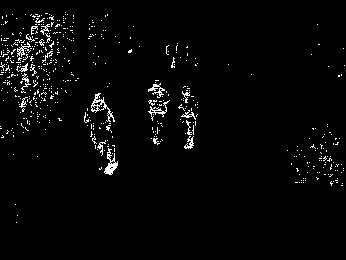person: (81, 90, 120, 177), (146, 80, 171, 145), (179, 83, 199, 150)
